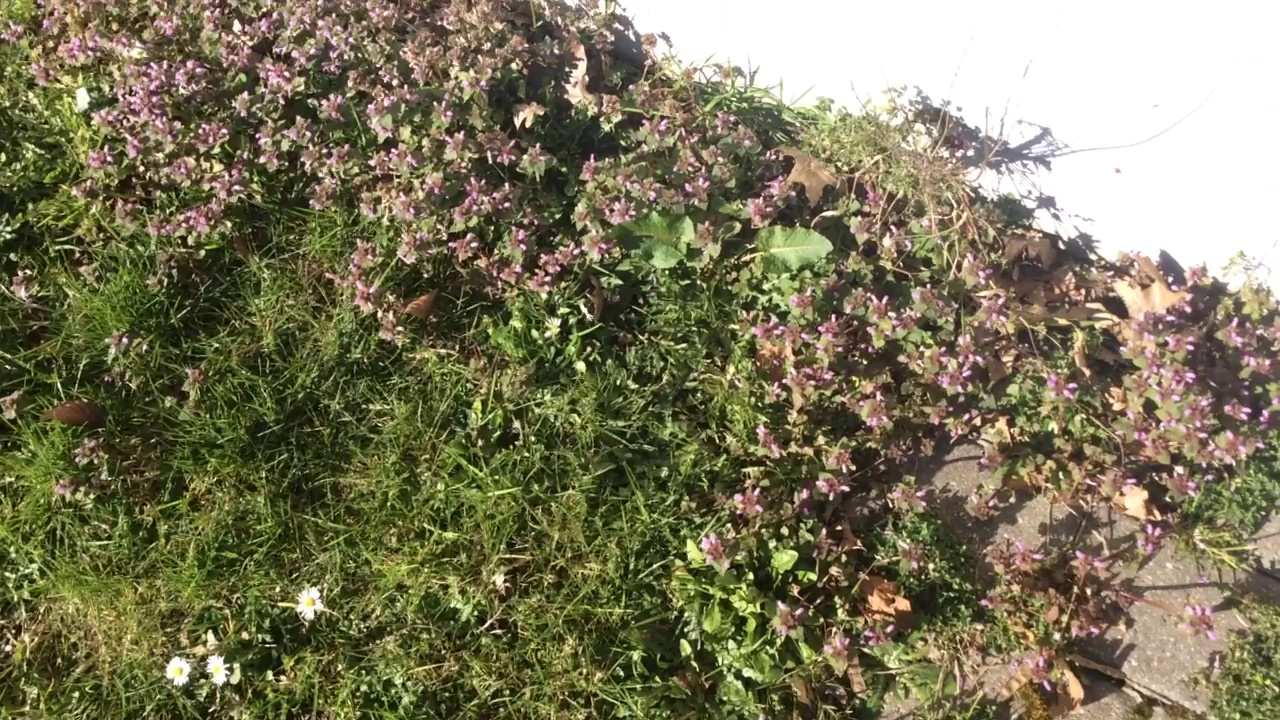rumex: (604, 213, 834, 275)
